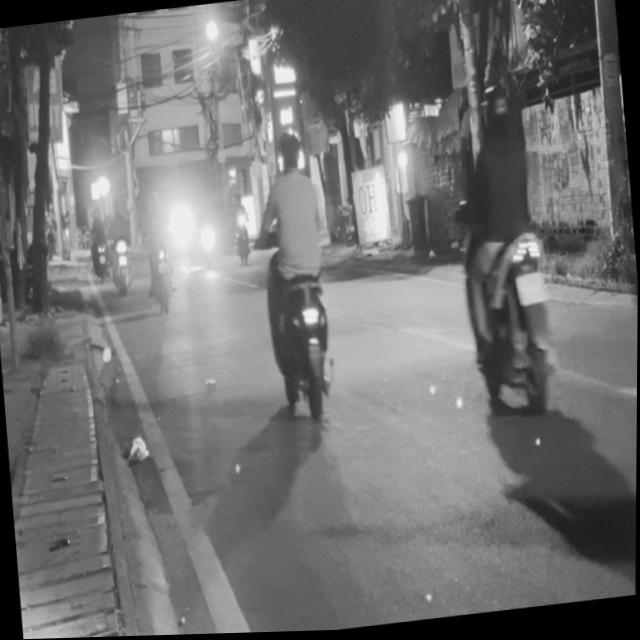helmet: (480, 86, 514, 144)
licenseplate: (442, 77, 563, 425), (245, 120, 344, 430)
motorcyclist: (274, 126, 304, 175)
nohelmet: (515, 273, 547, 306)
